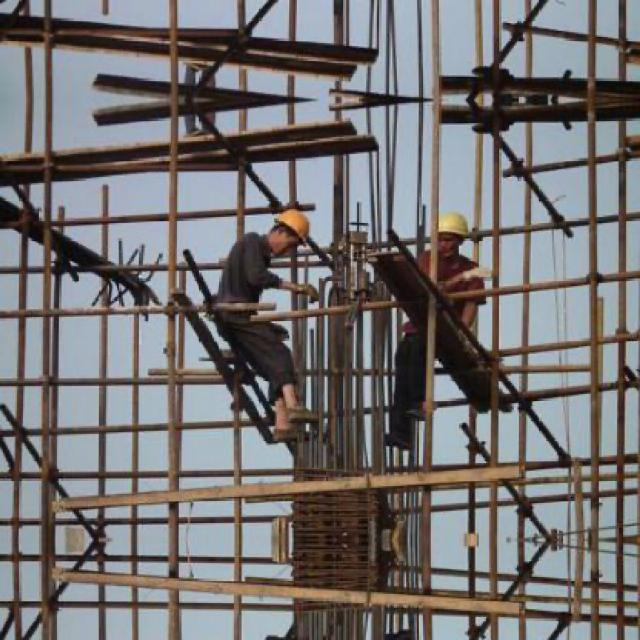helmet: (428, 204, 472, 264), (266, 205, 314, 252)
